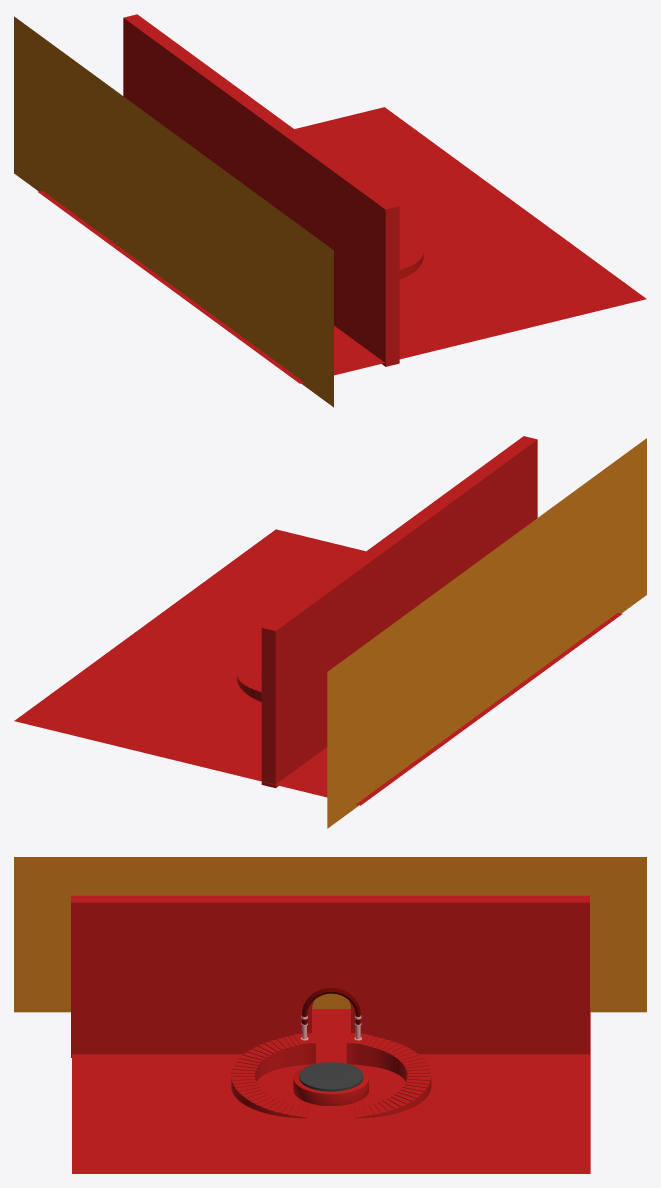
File: RED STAGE.fbx
The picture shows the model from 3 angles, top to bottom: view 1: azimuth 30°, elevation 25°; view 2: azimuth 150°, elevation 25°; view 3: azimuth 270°, elevation 25°; orthographic projection.
Visible parts, largest first — view 1: STAGE; view 2: STAGE; view 3: STAGE.
Part boxes in pixels (bbox=[...]): STAGE: bbox=[14, 14, 646, 407]; STAGE: bbox=[14, 436, 646, 828]; STAGE: bbox=[14, 857, 646, 1173].
Size of the model in its own units: 993 by 430 by 1586.
